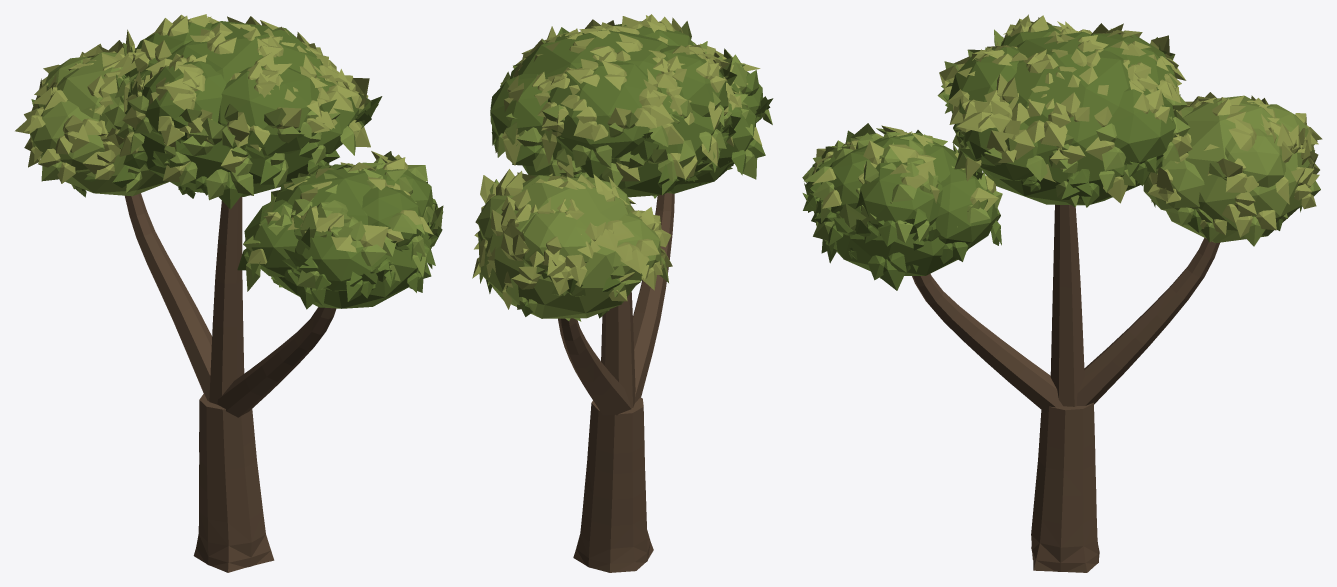
3 renders of one model, left to right at view 1: azimuth 30°, elevation 25°; view 2: azimuth 150°, elevation 25°; view 3: azimuth 270°, elevation 25°, orthographic.
Visible parts, largest first — view 1: crown, trunk; view 2: crown, trunk; view 3: crown, trunk.
Boxes of the visible parts, <box> form: crown: <box>15,14,443,309</box>; trunk: <box>125,193,336,572</box>; crown: <box>472,14,773,321</box>; trunk: <box>558,193,674,572</box>; crown: <box>802,14,1322,290</box>; trunk: <box>912,204,1219,572</box>.
Size of the model in its own units: 2.4 by 4.83 by 4.39.
